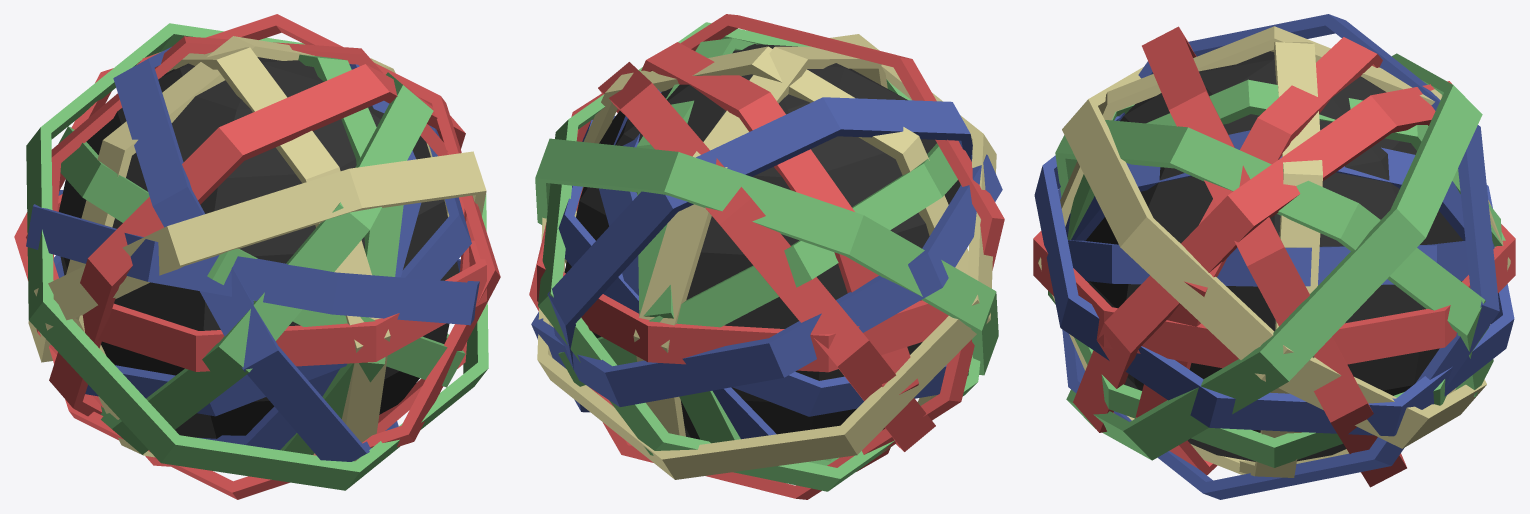
File: rubberbandball.fbx
The picture shows the model from 3 angles, left to right: view 1: azimuth 30°, elevation 25°; view 2: azimuth 150°, elevation 25°; view 3: azimuth 270°, elevation 25°; orthographic projection.
Visible parts, largest first — view 1: pSphere1, pasted__pPipe12, pasted__pPipe4, pasted__pPipe9, pasted__pPipe7, pasted__pPipe2, pasted__pPipe13, pPipe1, pasted__pPipe5, pasted__pPipe10, pasted__pPipe11, pasted__pPipe3 (+4 smaller); view 2: pasted__pPipe12, pSphere1, pasted__pPipe9, pasted__pPipe2, pasted__pPipe4, pasted__pPipe5, pasted__pPipe7, pasted__pPipe13, pasted__pPipe11, pPipe1, pasted__pPipe10, pasted__pPipe3 (+4 smaller); view 3: pasted__pPipe12, pSphere1, pasted__pPipe4, pasted__pPipe5, pasted__pPipe9, pasted__pPipe2, pasted__pPipe13, pasted__pPipe7, pPipe1, pasted__pPipe3, pasted__pPipe10, pasted__pPipe6 (+4 smaller).
Boxes of the visible parts, x1,y1,x2,y2 form: pSphere1: [59, 57, 459, 438]; pasted__pPipe12: [26, 23, 488, 490]; pasted__pPipe4: [28, 151, 486, 362]; pasted__pPipe9: [26, 190, 479, 325]; pasted__pPipe7: [49, 64, 465, 416]; pasted__pPipe2: [113, 47, 398, 461]; pasted__pPipe13: [100, 72, 433, 454]; pPipe1: [53, 194, 486, 371]; pasted__pPipe5: [14, 14, 500, 499]; pasted__pPipe10: [153, 47, 390, 461]; pasted__pPipe11: [58, 126, 465, 387]; pasted__pPipe3: [36, 36, 477, 466]; pasted__pPipe12: [535, 138, 998, 375]; pSphere1: [564, 44, 960, 439]; pasted__pPipe9: [531, 154, 1002, 406]; pasted__pPipe2: [547, 97, 972, 412]; pasted__pPipe4: [537, 34, 996, 479]; pasted__pPipe5: [598, 62, 935, 451]; pasted__pPipe7: [529, 14, 1004, 499]; pasted__pPipe13: [538, 22, 980, 491]; pasted__pPipe11: [558, 143, 957, 386]; pPipe1: [537, 187, 948, 372]; pasted__pPipe10: [633, 46, 887, 436]; pasted__pPipe3: [641, 42, 918, 471]; pasted__pPipe12: [1066, 53, 1482, 460]; pSphere1: [1085, 51, 1463, 461]; pasted__pPipe4: [1062, 67, 1486, 448]; pasted__pPipe5: [1073, 81, 1451, 432]; pasted__pPipe9: [1034, 116, 1514, 436]; pasted__pPipe2: [1058, 14, 1499, 499]; pasted__pPipe13: [1055, 120, 1493, 396]; pasted__pPipe7: [1142, 26, 1406, 487]; pPipe1: [1033, 224, 1515, 368]; pasted__pPipe3: [1135, 37, 1382, 474]; pasted__pPipe10: [1038, 26, 1510, 474]; pasted__pPipe6: [1068, 240, 1494, 286].
Bounding box in the file's own units: 7.82 × 7.13 × 7.26.
